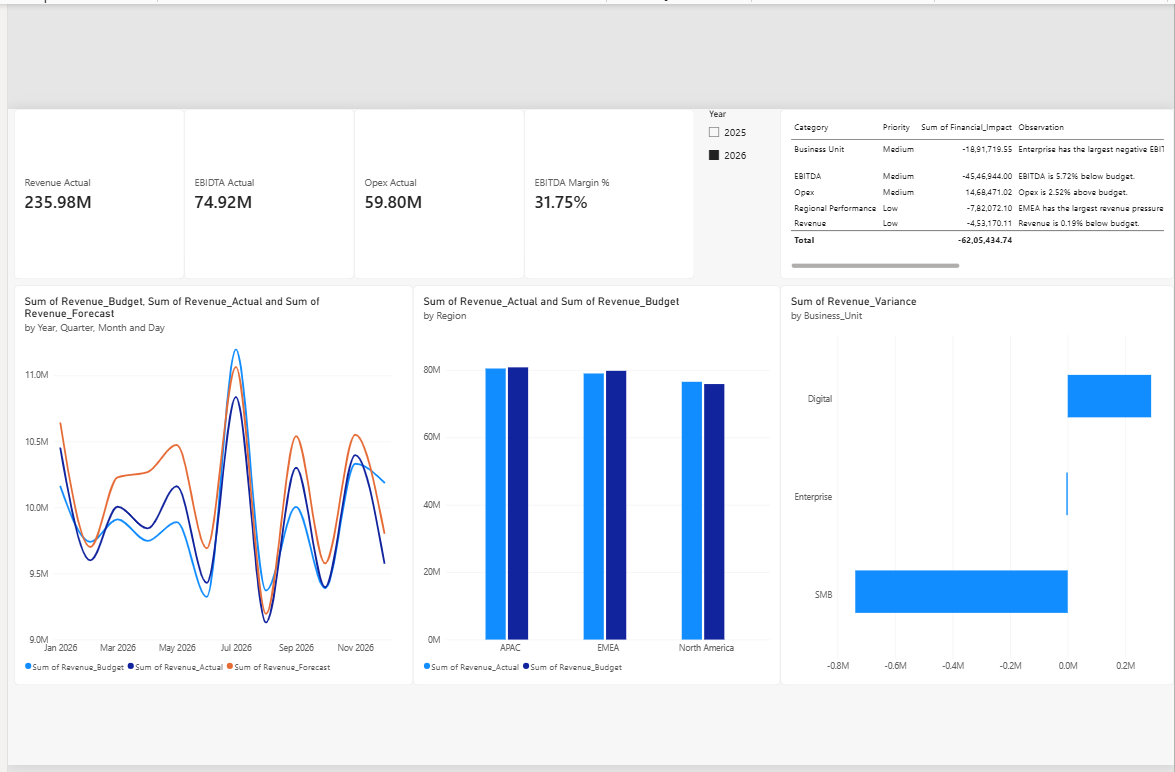

What the dashboard file says about the page in this screenshot:
{"tool":"powerbi","page":{"name":"Page 1","canvas":[1920,1080],"ordinal":0},"visuals":[{"type":"cardVisual","fields":{"Data":["Sum(Executive Summary.Actual)"]},"box":[10,0,280,280],"z":0},{"type":"cardVisual","fields":{"Data":["Sum(Executive Summary.Actual)"]},"box":[290.2,0,280,280],"z":1},{"type":"cardVisual","fields":{"Data":["Sum(Executive Summary.Actual)"]},"box":[570.2,0,280,280],"z":2},{"type":"cardVisual","fields":{"Data":["Executive Summary.EBITDA Margin %"]},"box":[850.1,0,280,280],"z":3},{"type":"lineChart","fields":{"Category":["Forecast Detail.Month.Variation.Date Hierarchy.Year","Forecast Detail.Month.Variation.Date Hierarchy.Quarter","Forecast Detail.Month.Variation.Date Hierarchy.Month","Forecast Detail.Month.Variation.Date Hierarchy.Day"],"Y":["Sum(Forecast Detail.Revenue_Budget)","Sum(Forecast Detail.Revenue_Actual)","Sum(Forecast Detail.Revenue_Forecast)"]},"box":[10.3,290.2,656.6,658.7],"z":4},{"type":"slicer","fields":{"Values":["Forecast Detail.Year"]},"box":[1146.5,0,249.1,279.9],"z":5},{"type":"clusteredColumnChart","fields":{"Category":["Regional Analysis.Region"],"Y":["Sum(Regional Analysis.Revenue_Actual)","Sum(Regional Analysis.Revenue_Budget)"]},"box":[666.9,290.2,605.1,658.7],"z":6},{"type":"clusteredBarChart","fields":{"Category":["Variance Detail.Business_Unit"],"Y":["Sum(Variance Detail.Revenue_Variance)"]},"box":[1272,290.2,648.4,658.7],"z":7},{"type":"tableEx","fields":{"Values":["Management Insights.Category","Management Insights.Priority","Sum(Management Insights.Financial_Impact)","Management Insights.Observation","Management Insights.Recommended_Action"]},"box":[1272,0,648.4,279.9],"z":8}]}

Visuals, with their boxes on the page's 1920x1080 design canvas (x1, y1, x2, y2). These are canvas units, not pixel positions in the 1175x772 screenshot, which may show the page scaled, cropped or inside an application window:
cardVisual - Sum(Executive Summary.Actual): [10,0,290,280]
cardVisual - Sum(Executive Summary.Actual): [290,0,570,280]
cardVisual - Sum(Executive Summary.Actual): [570,0,850,280]
cardVisual - Executive Summary.EBITDA Margin %: [850,0,1130,280]
lineChart - Forecast Detail.Month.Variation.Date Hierarchy.Year x Forecast Detail.Month.Variation.Date Hierarchy.Quarter: [10,290,667,949]
slicer - Forecast Detail.Year: [1146,0,1396,280]
clusteredColumnChart - Regional Analysis.Region x Sum(Regional Analysis.Revenue_Actual): [667,290,1272,949]
clusteredBarChart - Variance Detail.Business_Unit x Sum(Variance Detail.Revenue_Variance): [1272,290,1920,949]
tableEx - Management Insights.Category x Management Insights.Priority: [1272,0,1920,280]
